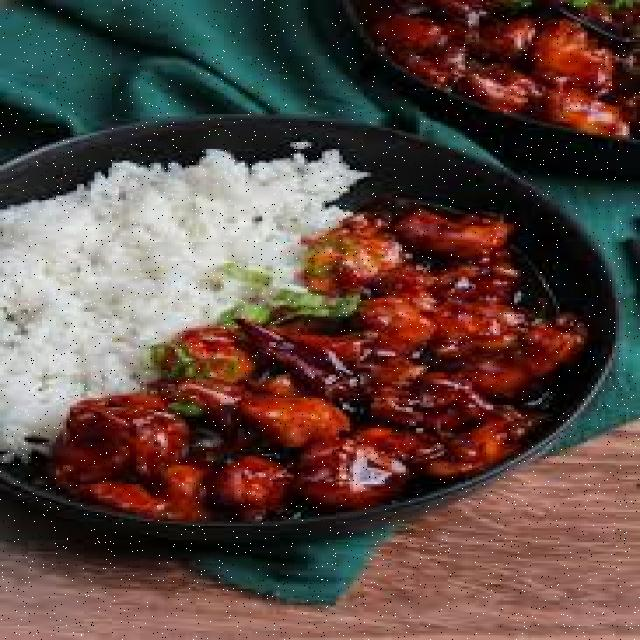Chicken: (45, 207, 584, 519), (360, 0, 637, 137)
Rice: (0, 149, 364, 458)
